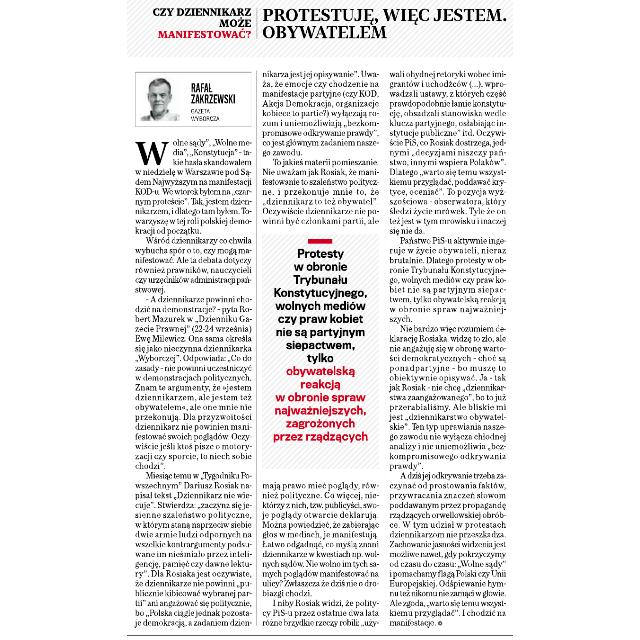author: (186, 77, 242, 106)
body: (387, 68, 511, 628), (130, 133, 256, 632), (272, 235, 374, 447), (258, 68, 382, 228), (260, 479, 380, 629)
title: (148, 2, 512, 48)
